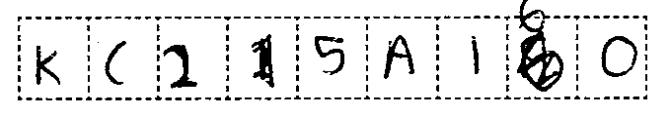0: (592, 30, 642, 81)
1: (244, 27, 284, 93), (457, 31, 491, 78)
2: (161, 40, 202, 92)
5: (306, 31, 353, 80)
6: (516, 0, 550, 34)
A: (379, 30, 422, 83)
C: (99, 39, 138, 87)
K: (30, 40, 66, 92)
